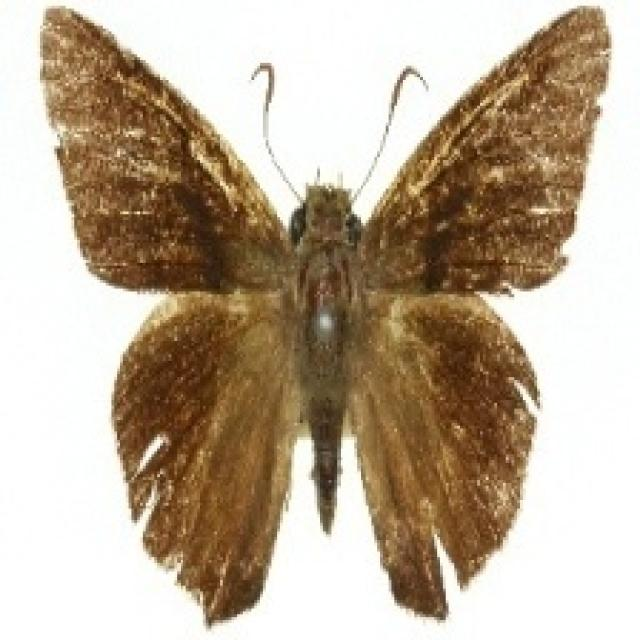butterfly: (34, 0, 612, 626)
